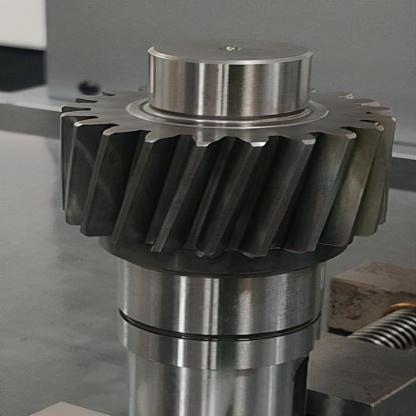FOD: (33, 78, 408, 266)
